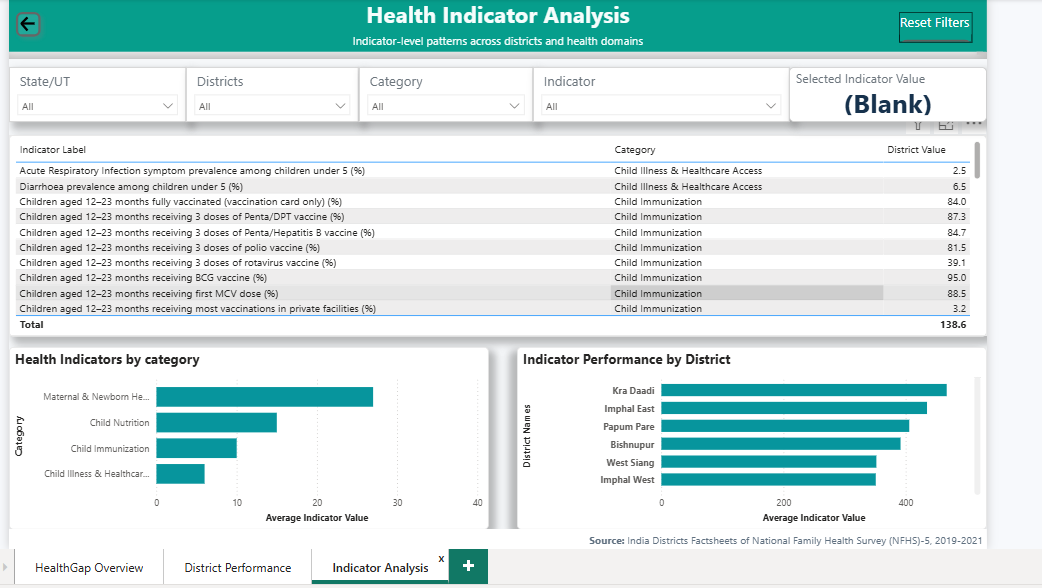

What the dashboard file says about the page in this screenshot:
{"tool":"powerbi","page":{"name":"Indicator Analysis","canvas":[1280,720],"ordinal":2},"visuals":[{"type":"slicer","fields":{"Values":["Geography.state_ut"]},"box":[0,89.3,231.8,72],"z":0},{"type":"slicer","fields":{"Values":["Geography.district_names"]},"box":[231.8,89.3,226.1,72],"z":1000},{"type":"slicer","fields":{"Values":["Indicator Master.category"]},"box":[457.9,89.3,227.5,72],"z":2000},{"type":"slicer","fields":{"Values":["Indicator Master.Indicator Label"]},"box":[685.4,89.3,335.5,72],"z":3000},{"type":"tableEx","fields":{"Values":["Indicator Master.Indicator Label","Indicator Master.category","Avg(Health Indicators.value)"]},"box":[0,178.1,1280,263.7],"z":4000},{"type":"clusteredBarChart","title":"Health Indicators by category","fields":{"Category":["Indicator Master.category"],"Y":["CountNonNull(Indicator Master.Indicator Label)"]},"box":[0,455.2,628.2,238.5],"z":5000},{"type":"card","title":"Selected Indicator Value","fields":{"Values":["Measures (2).Indicator Value"]},"box":[1021,89.3,259.2,72],"z":6000},{"type":"actionButton","box":[0,0,100,40],"z":7000},{"type":"clusteredBarChart","title":"Indicator Performance by District","fields":{"Category":["Geography.district_names"],"Y":["Avg(Health Indicators.value)"]},"box":[665.2,455.2,614.8,238.5],"z":8000},{"type":"textbox","title":"Health Indicator Analysis","box":[0,0,1280.2,77.8],"z":9000},{"type":"textbox","box":[0,693.8,1280,26.9],"z":10000},{"type":"actionButton","title":"Reset Filters","box":[1165,17.3,96.5,40.3],"z":11000},{"type":"actionButton","box":[0,7.2,50.4,50.4],"z":12000}]}

Visuals, with their boxes on the page's 1280x720 design canvas (x1, y1, x2, y2). These are canvas units, not pixel positions in the 1042x588 screenshot, which may show the page scaled, cropped or inside an application window:
slicer - Geography.state_ut: (0, 89, 232, 161)
slicer - Geography.district_names: (232, 89, 458, 161)
slicer - Indicator Master.category: (458, 89, 685, 161)
slicer - Indicator Master.Indicator Label: (685, 89, 1021, 161)
tableEx - Indicator Master.Indicator Label x Indicator Master.category: (0, 178, 1280, 442)
"Health Indicators by category" clusteredBarChart: (0, 455, 628, 694)
"Selected Indicator Value" card: (1021, 89, 1280, 161)
actionButton: (0, 0, 100, 40)
"Indicator Performance by District" clusteredBarChart: (665, 455, 1280, 694)
"Health Indicator Analysis" textbox: (0, 0, 1280, 78)
textbox: (0, 694, 1280, 721)
"Reset Filters" actionButton: (1165, 17, 1262, 58)
actionButton: (0, 7, 50, 58)
